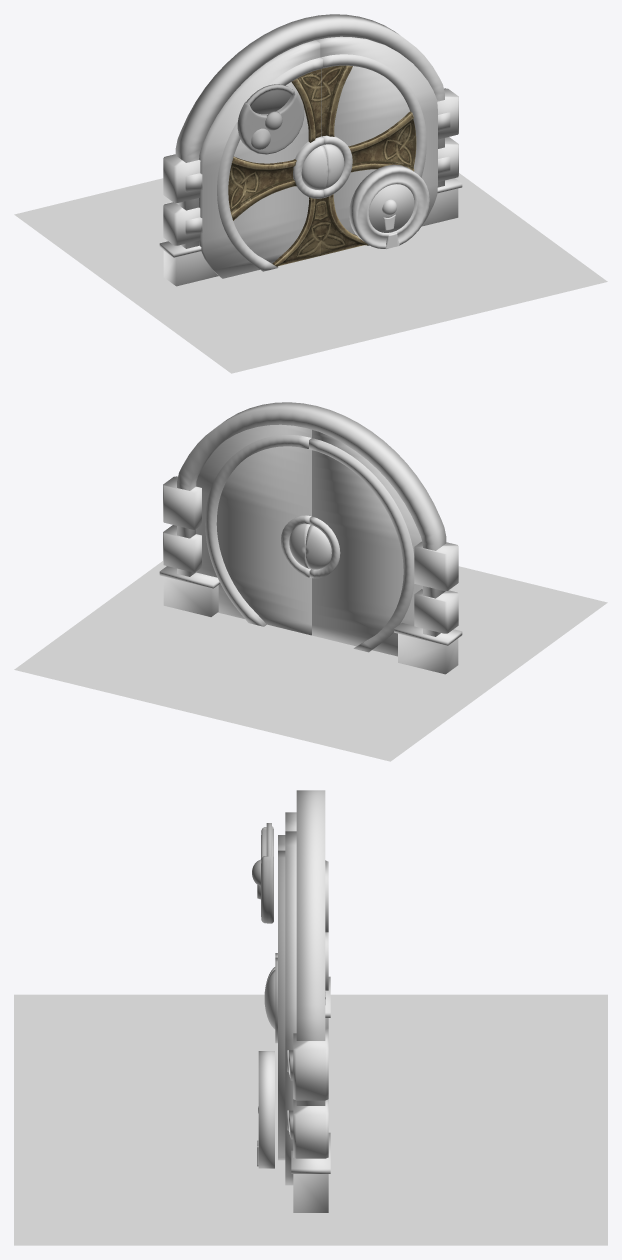
Rendered from All_in_One.fbx.
The picture shows the model from 3 angles, top to bottom: view 1: azimuth 30°, elevation 25°; view 2: azimuth 150°, elevation 25°; view 3: azimuth 270°, elevation 25°; orthographic projection. The views are drawn at different scales.
Parts seen in each view (by area): view 1: Plane, Cube.003, Cube.013, Cube.001, Cube.007, Cylinder.003, Cube, outercircle_001, Cylinder.004, Cube.008, innercircle; view 2: Plane, Cube.013, Cube.003, Cube.001, Cube.007, Cube; view 3: Plane, Cube.001, Cube.013, Cube.007, Cube, Cylinder.003, outercircle_001.
Boxes of the visible parts, x1,y1,x2,y2 form: Plane: (14, 173, 607, 373); Cube.003: (199, 40, 327, 278); Cube.013: (316, 36, 437, 255); Cube.001: (175, 14, 444, 248); Cube.007: (163, 88, 458, 245); Cylinder.003: (349, 164, 429, 248); Cube: (159, 178, 462, 286); outercircle_001: (237, 89, 304, 154); Cylinder.004: (369, 184, 414, 232); Cube.008: (185, 112, 450, 234); innercircle: (246, 84, 293, 114); Plane: (14, 561, 607, 761); Cube.013: (196, 424, 311, 635); Cube.003: (305, 430, 422, 656); Cube.001: (177, 402, 446, 636); Cube.007: (163, 476, 458, 633); Cube: (159, 566, 462, 674); Plane: (14, 994, 607, 1245); Cube.001: (296, 790, 325, 1105); Cube.013: (264, 831, 325, 1185); Cube.007: (293, 860, 328, 1158); Cube: (291, 976, 330, 1212); Cylinder.003: (258, 1051, 274, 1168); outercircle_001: (261, 826, 273, 923).
Bounding box in the file's own units: 401 × 231 × 401.
